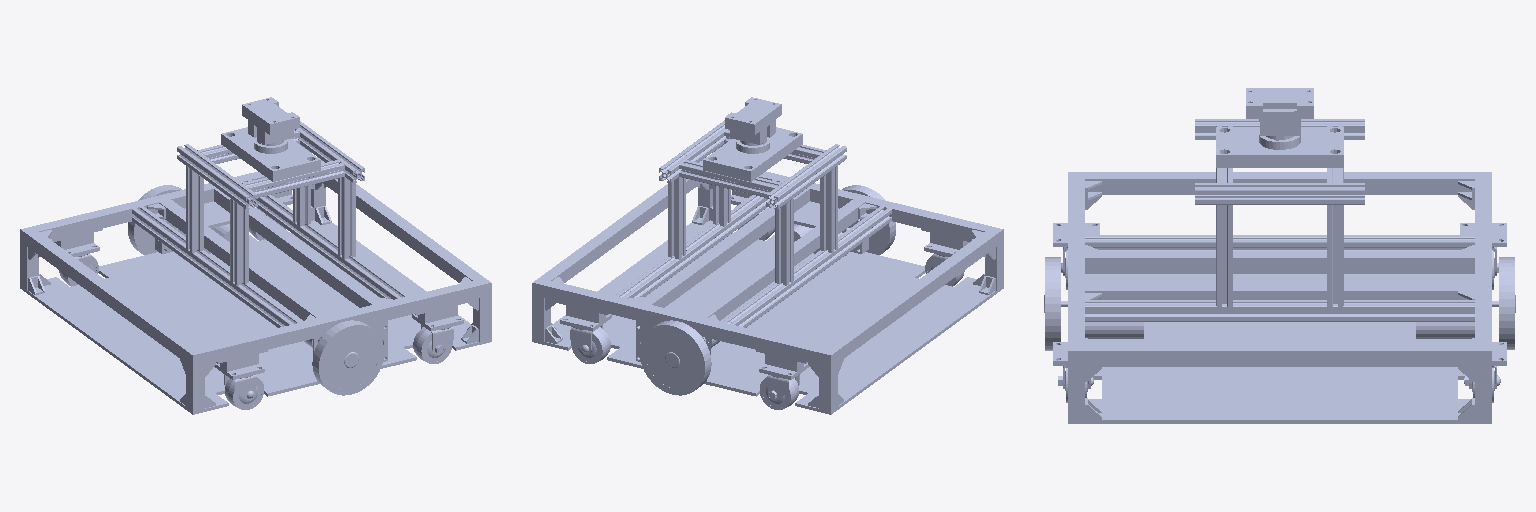
URDF robot description (urdf_non):
<?xml version="1.0" encoding="utf-8"?>
<!-- This URDF was automatically created by SolidWorks to URDF Exporter! Originally created by [author] ([email redacted]) 
     Commit Version: 1.6.0-4-g7f85cfe  Build Version: 1.6.7995.38578
     For more information, please see http://wiki.ros.org/sw_urdf_exporter -->
<robot
  name="urdf_non">

  <link name="base_linkleader">
    <inertial>
      <origin
        xyz="0.0206901197551754 -1.27048075674319E-05 -0.024985130325309"
        rpy="0 0 0" />
      <mass
        value="4.2259789874892" />
      <inertia
        ixx="0.0405271020441637"
        ixy="2.62638993629904E-07"
        ixz="2.94726171996408E-09"
        iyy="0.0342449774322416"
        iyz="-1.90622214384226E-09"
        izz="0.0739089051586613" />
    </inertial>
    <visual>
      <origin
        xyz="0 0 0"
        rpy="0 0 0" />
      <geometry>
        <mesh
          filename="package://urdf_non/meshes/base_link.STL" />
      </geometry>
      <material
        name="">
        <color
          rgba="0.792156862745098 0.819607843137255 0.933333333333333 1" />
      </material>
    </visual>
    <collision>
      <origin
        xyz="0 0 0"
        rpy="0 0 0" />
      <geometry>
        <mesh
          filename="package://urdf_non/meshes/base_link.STL" />
      </geometry>
    </collision>
  </link>
  <link
    name="link_wheel_left">
    <inertial>
      <origin
        xyz="-1.11022302462516E-16 -0.0099999999999999 0"
        rpy="0 0 0" />
      <mass
        value="0.172530421663568" />
      <inertia
        ixx="0.000136173124630135"
        ixy="1.64399906935272E-18"
        ixz="2.81325095681818E-22"
        iyy="0.000262751529741945"
        iyz="-2.44362684100325E-19"
        izz="0.000136173124630135" />
    </inertial>
    <visual>
      <origin
        xyz="0 0 0"
        rpy="0 0 0" />
      <geometry>
        <mesh
          filename="package://urdf_non/meshes/link_wheel_left.STL" />
      </geometry>
      <material
        name="">
        <color
          rgba="0.792156862745098 0.819607843137255 0.933333333333333 1" />
      </material>
    </visual>
    <collision>
      <origin
        xyz="0 0 0"
        rpy="0 0 0" />
      <geometry>
        <mesh
          filename="package://urdf_non/meshes/link_wheel_left.STL" />
      </geometry>
    </collision>
  </link>
  <joint
    name="joint_wheel_left"
    type="revolute">
    <origin
      xyz="0.010229 0.278 -0.0549"
      rpy="0 0 0" />
    <parent
      link="base_linkleader" />
    <child
      link="link_wheel_left" />
    <axis
      xyz="0 1 0" />
    <limit
      lower="0"
      upper="0"
      effort="0"
      velocity="0" />
  </joint>
  <link
    name="link_wheel_right">
    <inertial>
      <origin
        xyz="1.11022302462516E-16 0.01 2.88657986402541E-15"
        rpy="0 0 0" />
      <mass
        value="0.172530421663567" />
      <inertia
        ixx="0.000136173124630134"
        ixy="1.64925929693813E-18"
        ixz="2.03387324110904E-20"
        iyy="0.000262751529741944"
        iyz="-1.29408353917935E-19"
        izz="0.000136173124630134" />
    </inertial>
    <visual>
      <origin
        xyz="0 0 0"
        rpy="0 0 0" />
      <geometry>
        <mesh
          filename="package://urdf_non/meshes/link_wheel_right.STL" />
      </geometry>
      <material
        name="">
        <color
          rgba="0.792156862745098 0.819607843137255 0.933333333333333 1" />
      </material>
    </visual>
    <collision>
      <origin
        xyz="0 0 0"
        rpy="0 0 0" />
      <geometry>
        <mesh
          filename="package://urdf_non/meshes/link_wheel_right.STL" />
      </geometry>
    </collision>
  </link>
  <joint
    name="joint_wheel_right"
    type="revolute">
    <origin
      xyz="0.010229 -0.278 -0.0549"
      rpy="0 0 0" />
    <parent
      link="base_linkleader" />
    <child
      link="link_wheel_right" />
    <axis
      xyz="0 -1 0" />
    <limit
      lower="0"
      upper="0"
      effort="0"
      velocity="0" />
  </joint>
  <gazebo>
      <plugin name="object_controller" filename="libgazebo_ros_planar_move.so">
      	<commandTopic>cmd_vel</commandTopic>
      	<odometryTopic>odom</odometryTopic>
      	<odometryFrame>odom</odometryFrame>
      	<odometryRate>20.0</odometryRate>
      	<robotBaseFrame>base_linkleader</robotBaseFrame>
    </plugin>
  </gazebo>
</robot>

--- Facts derived from the render (not from the file) ---
3 views of the same robot in one strip: view 1: azimuth 30°, elevation 25°; view 2: azimuth 150°, elevation 25°; view 3: azimuth 270°, elevation 25° (orthographic).
Robot: urdf_non — 3 links, 2 joints (2 revolute); root link base_linkleader; default pose: all joints at 0.
Links seen in each view (by area): view 1: base_linkleader, link_wheel_right, link_wheel_left; view 2: base_linkleader, link_wheel_left, link_wheel_right; view 3: base_linkleader, link_wheel_right, link_wheel_left.
Link boxes in pixels (<box>): base_linkleader: <box>20,97,491,414</box>; link_wheel_right: <box>312,320,383,395</box>; link_wheel_left: <box>128,185,181,254</box>; base_linkleader: <box>532,97,1003,414</box>; link_wheel_left: <box>640,320,711,395</box>; link_wheel_right: <box>842,185,895,254</box>; base_linkleader: <box>1053,88,1506,423</box>; link_wheel_right: <box>1044,257,1060,350</box>; link_wheel_left: <box>1499,257,1515,349</box>.
Bounding box of the posed robot: 0.5 × 0.556 × 0.3364 m (x, y, z).
3 mesh visuals loaded from 3 distinct referenced files (3 binary STL).
